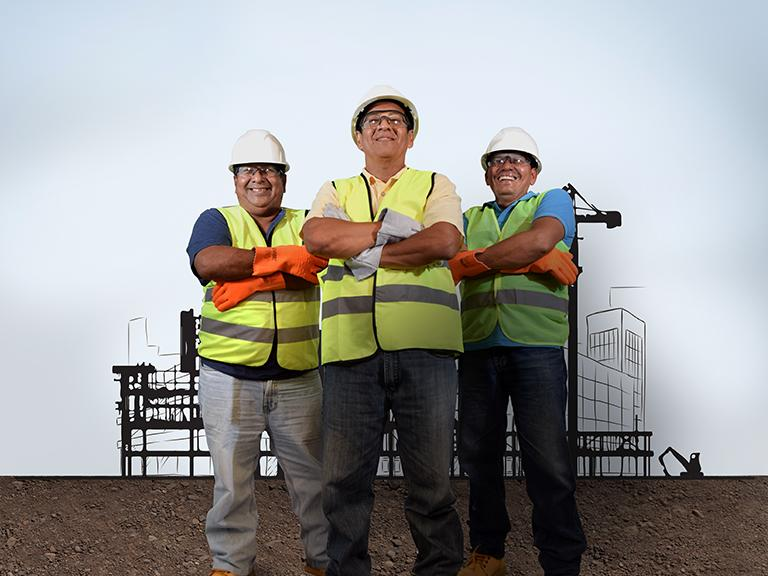hat: (325, 68, 434, 140), (208, 115, 300, 185), (468, 117, 578, 172)
vest: (308, 168, 474, 384), (181, 194, 325, 391), (445, 192, 604, 364)
